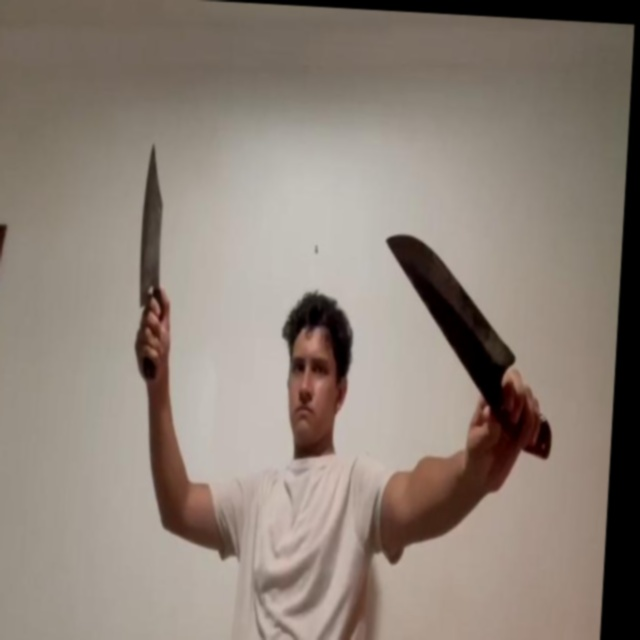Sharp-Object: (379, 230, 522, 369), (137, 139, 169, 304)
